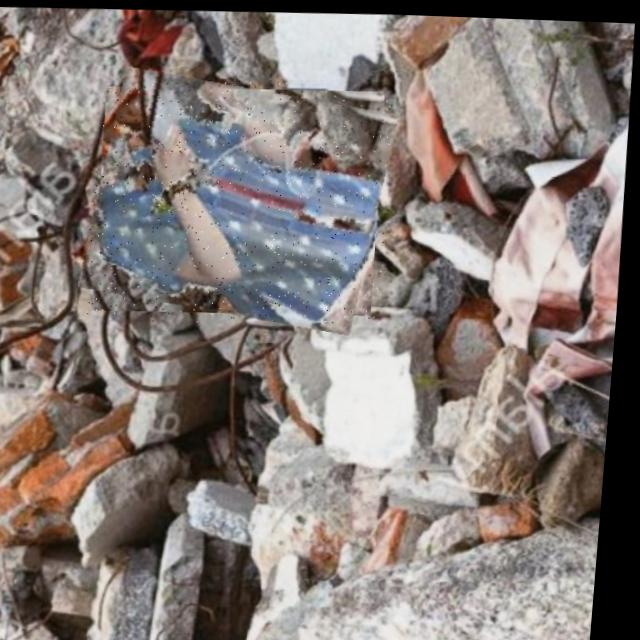Person in Rubble: (84, 69, 398, 326)
